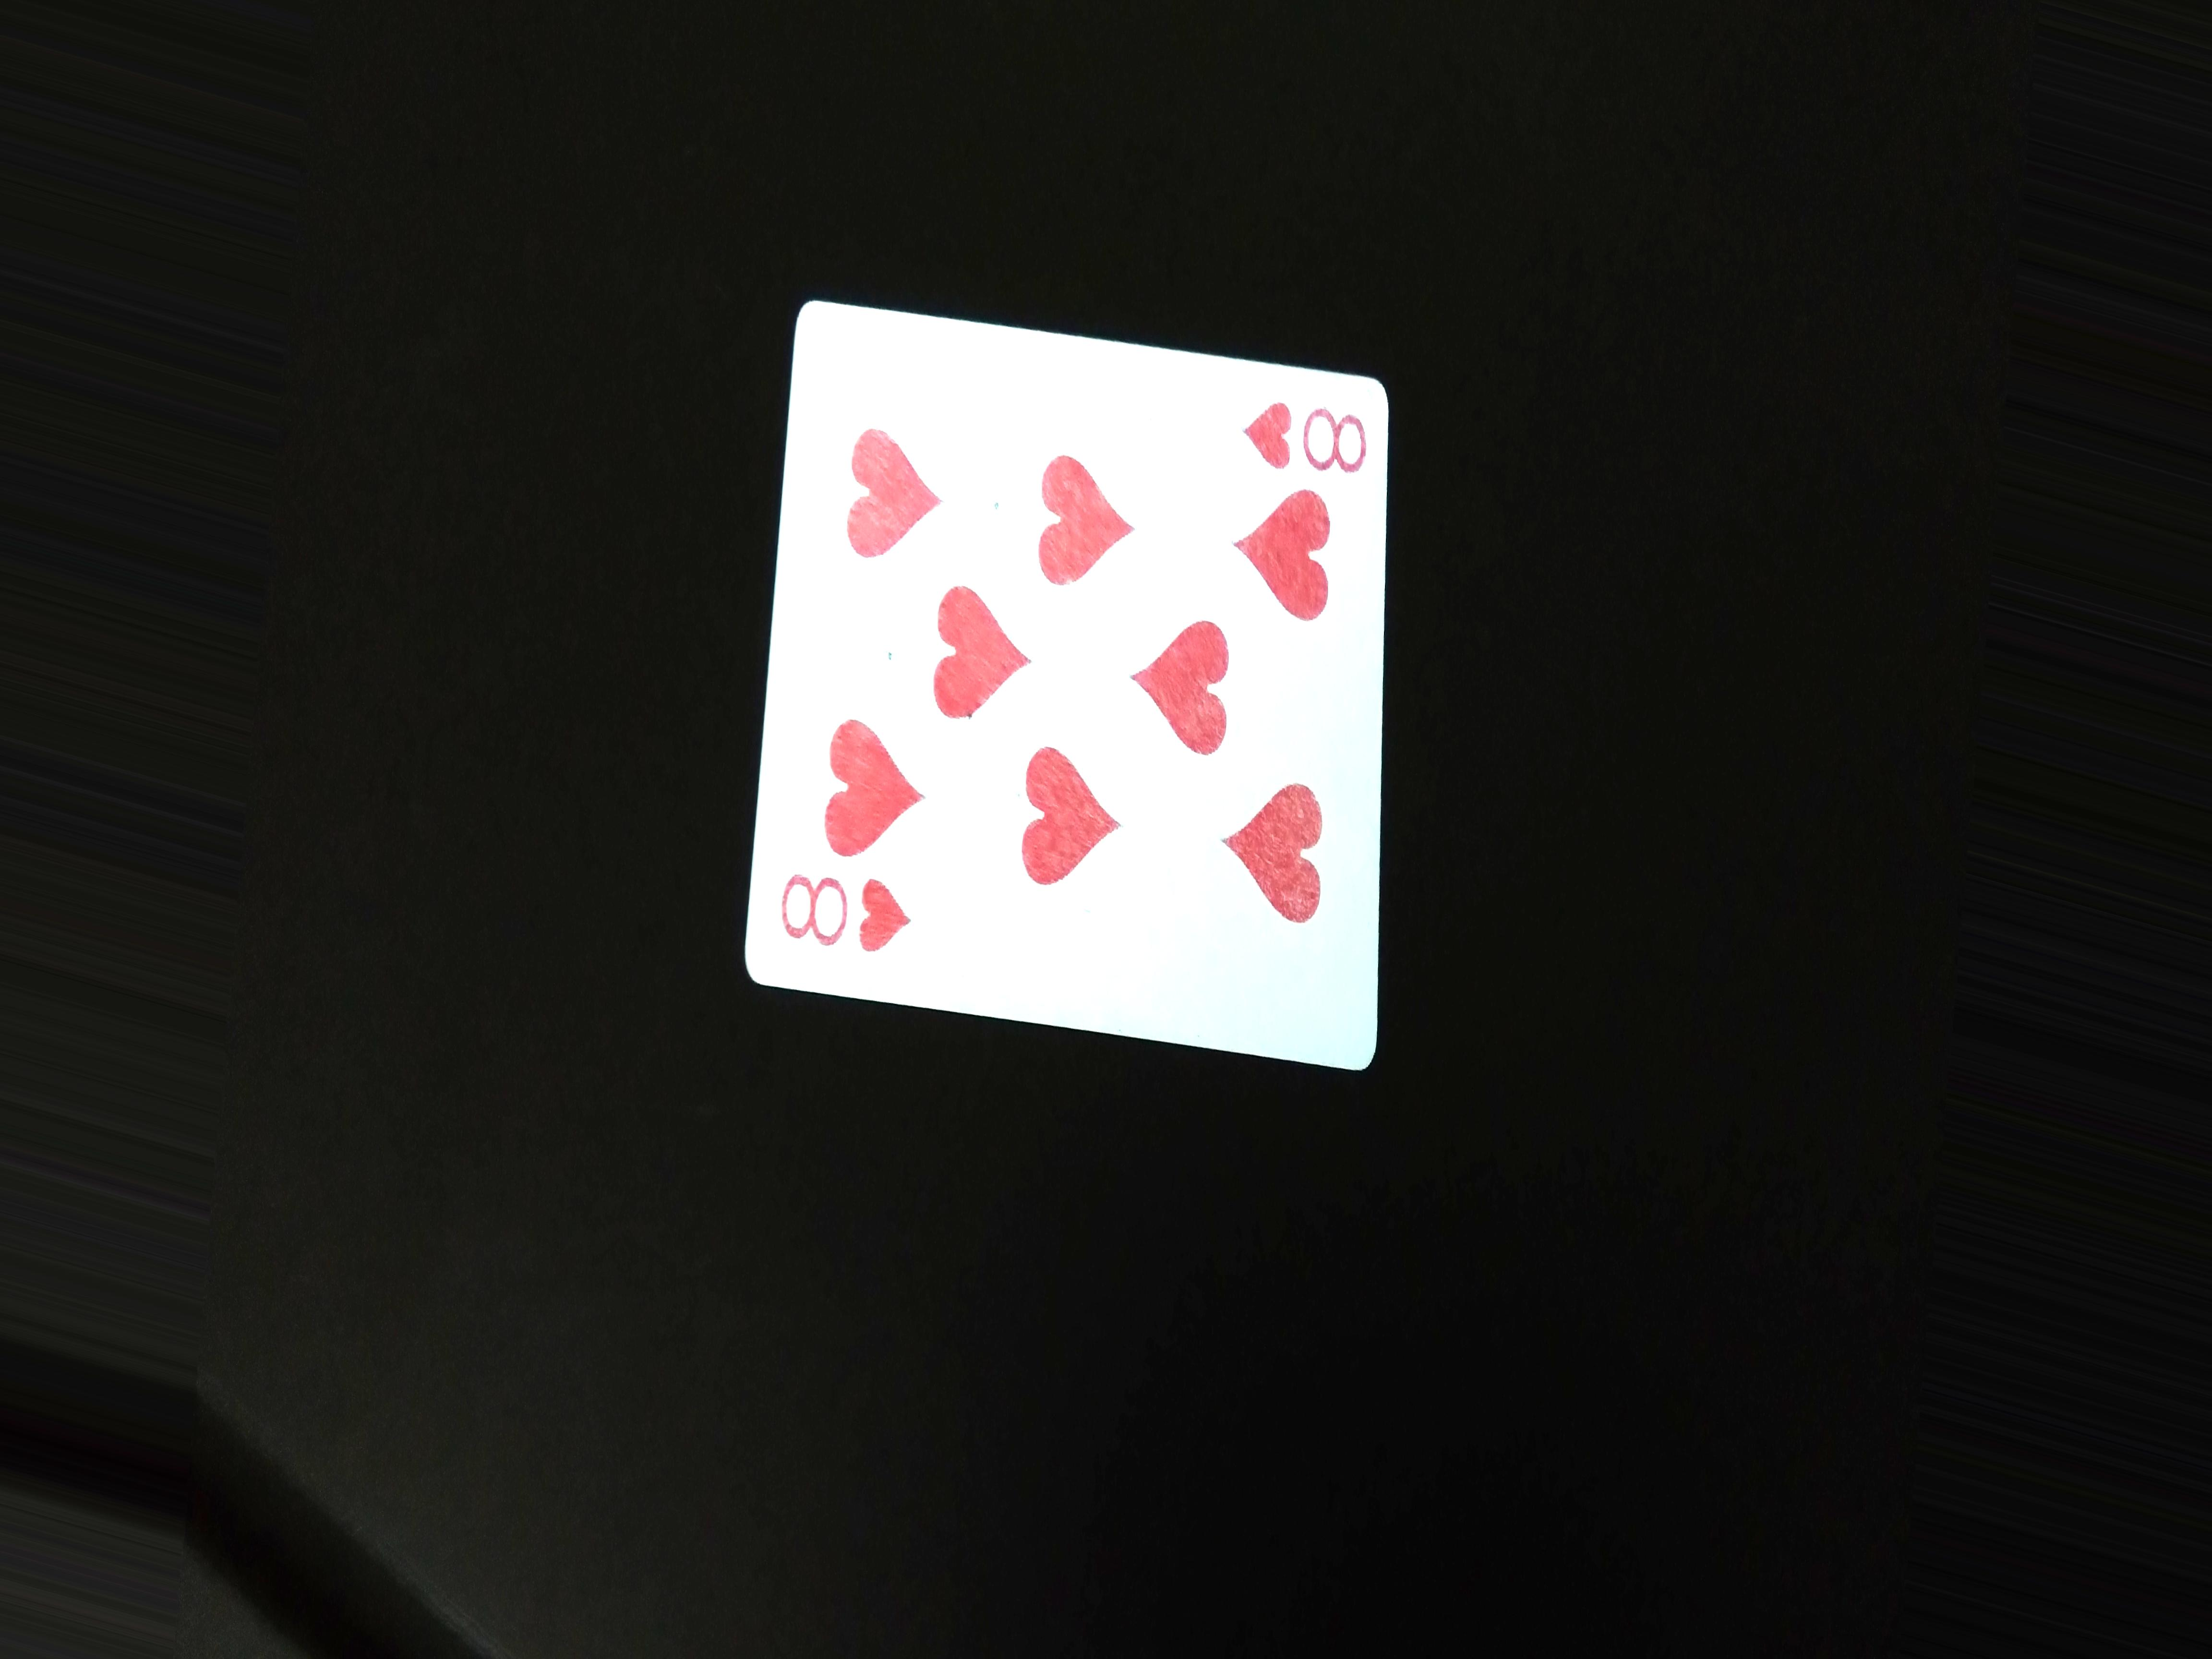8H: (754, 845, 949, 979)
